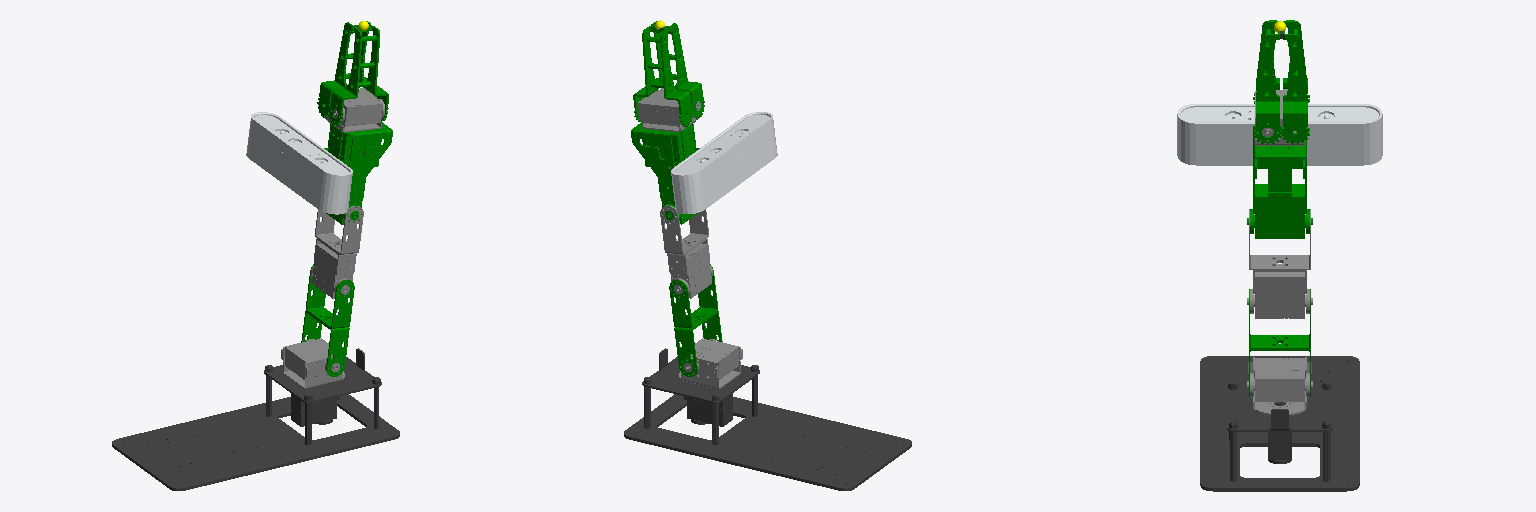
The robot description file, URDF, robot "arm5dof":
<?xml version="1.0" encoding="utf-8"?>
<!-- 五自由度机械臂 URDF模型  ROS版-->
<robot
  name="arm5dof">
  <link
    name="base_link">
    <inertial>
      <origin
        xyz="-0.05549 -1.2443E-05 0.014047"
        rpy="0 0 0" />
      <mass
        value="0.34831" />
      <inertia
        ixx="0.00037734"
        ixy="-1.9667E-07"
        ixz="-5.7059E-07"
        iyy="0.0011827"
        iyz="9.3336E-14"
        izz="0.0015361" />
    </inertial>
    <visual>
      <origin
        xyz="0 0 0"
        rpy="0 0 0" />
      <geometry>
        <mesh
          filename="package://arm5dof_description/meshes/base_link.STL" />
      </geometry>
      <material
        name="black">
        <color
          rgba="0.3 0.3 0.3 1" />
      </material>
    </visual>
    <collision>
      <origin
        xyz="0 0 0"
        rpy="0 0 0" />
      <geometry>
        <mesh
          filename="package://arm5dof_description/meshes/base_link.STL" />
      </geometry>
    </collision>
  </link>
  <link
    name="link1">
    <inertial>
      <origin
        xyz="-0.0098047 1.4097E-06 0.014583"
        rpy="0 0 0" />
      <mass
        value="0.047857" />
      <inertia
        ixx="9.9743E-06"
        ixy="1.2606E-09"
        ixz="5.9862E-07"
        iyy="8.9062E-06"
        iyz="2.193E-09"
        izz="1.4861E-05" />
    </inertial>
    <visual>
      <origin
        xyz="0 0 0"
        rpy="0 0 0" />
      <geometry>
        <mesh
          filename="package://arm5dof_description/meshes/link1.STL" />
      </geometry>
      <material
        name="green">
        <color
          rgba="0.6 0.6 0.6 1" />
      </material>
    </visual>
    <collision>
      <origin
        xyz="0 0 0"
        rpy="0 0 0" />
      <geometry>
        <mesh
          filename="package://arm5dof_description/meshes/link1.STL" />
      </geometry>
    </collision>
  </link>
  <joint
    name="joint1"
    type="revolute">
    <origin
      xyz="0 0 0.052"
      rpy="0 0 0" />
    <parent
      link="base_link" />
    <child
      link="link1" />
    <axis
      xyz="0 0 1" />
    <limit
      lower="-1.5708"
      upper="1.5708"
      effort="20"
      velocity="3.5" />
    <ros2_control>
      <hardware_interface>
        position_controllers/JointPositionController
      </hardware_interface>
    </ros2_control>
  </joint>
  <link
    name="link2">
    <inertial>
      <origin
        xyz="0.04 -5.5511E-17 6.7485E-17"
        rpy="0 0 0" />
      <mass
        value="0.020202" />
      <inertia
        ixx="9.9386E-06"
        ixy="1.7219E-08"
        ixz="-5.3147E-21"
        iyy="1.3724E-05"
        iyz="-1.594E-21"
        izz="5.1826E-06" />
    </inertial>
    <visual>
      <origin
        xyz="0 0 0"
        rpy="0 0 0" />
      <geometry>
        <mesh
          filename="package://arm5dof_description/meshes/link2.STL" />
      </geometry>
      <material
        name="green">
        <color
          rgba="0 0.6 0 1" />
      </material>
    </visual>
    <collision>
      <origin
        xyz="0 0 0"
        rpy="0 0 0" />
      <geometry>
        <mesh
          filename="package://arm5dof_description/meshes/link2.STL" />
      </geometry>
    </collision>
  </link>
  <joint
    name="joint2"
    type="revolute">
    <origin
      xyz="0 0 0.018"
      rpy="-1.5708 0 0" />
    <parent
      link="link1" />
    <child
      link="link2" />
    <axis
      xyz="0 0 1" />
    <limit
      lower="-2.650"
      upper="-0.2269"
      effort="20"
      velocity="3.5" />
    <ros2_control>
      <hardware_interface>
        position_controllers/JointPositionController
      </hardware_interface>
    </ros2_control>
  </joint>
  <link
    name="link3">
    <inertial>
      <origin
        xyz="0.019908 0 -6.1294E-06"
        rpy="0 0 0" />
      <mass
        value="0.050927" />
      <inertia
        ixx="1.2573E-05"
        ixy="8.6095E-09"
        ixz="-1.9789E-09"
        iyy="1.7838E-05"
        iyz="3.1614E-20"
        izz="8.6328E-06" />
    </inertial>
    <visual>
      <origin
        xyz="0 0 0"
        rpy="0 0 0" />
      <geometry>
        <mesh
          filename="package://arm5dof_description/meshes/link3.STL" />
      </geometry>
      <material
        name="gray">
        <color
          rgba="0.6 0.6 0.6 1" />
      </material>
    </visual>
    <collision>
      <origin
        xyz="0 0 0"
        rpy="0 0 0" />
      <geometry>
        <mesh
          filename="package://arm5dof_description/meshes/link3.STL" />
      </geometry>
    </collision>
  </link>
  <joint
    name="joint3"
    type="revolute">
    <origin
      xyz="0.08 0 0"
      rpy="0 0 0" />
    <parent
      link="link2" />
    <child
      link="link3" />
    <axis
      xyz="0 0 1" />
    <limit
      lower="-0.7854"
      upper="1.5708"
      effort="20"
      velocity="3.5" />
    <ros2_control>
      <hardware_interface>
        position_controllers/JointPositionController
      </hardware_interface>
    </ros2_control>
  </joint>
  <link
    name="link4">
    <inertial>
      <origin
        xyz="0.042216 0.0041806 -3.2915E-06"
        rpy="0 0 0" />
      <mass
        value="0.094835" />
      <inertia
        ixx="2.4341E-05"
        ixy="-2.5244E-06"
        ixz="-1.9789E-09"
        iyy="3.3312E-05"
        iyz="1.4436E-20"
        izz="3.0737E-05" />
    </inertial>
    <visual>
      <origin
        xyz="0 0 0"
        rpy="0 0 0" />
      <geometry>
        <mesh
          filename="package://arm5dof_description/meshes/link4.STL" />
      </geometry>
      <material
        name="green">
        <color
          rgba="0 0.6 0 1" />
      </material>
    </visual>
    <collision>
      <origin
        xyz="0 0 0"
        rpy="0 0 0" />
      <geometry>
        <mesh
          filename="package://arm5dof_description/meshes/link4.STL" />
      </geometry>
    </collision>
  </link>
  <joint
    name="joint4"
    type="revolute">
    <origin
      xyz="0.07615 0 0"
      rpy="0 0 0" />
    <parent
      link="link3" />
    <child
      link="link4" />
    <axis
      xyz="0 0 1" />
    <limit
      lower="-1.5708"
      upper="1.5708"
      effort="20"
      velocity="3.5" />
    <ros2_control>
      <hardware_interface>
        position_controllers/JointPositionController
      </hardware_interface>
    </ros2_control>
  </joint>
  <link
    name="link5">
    <inertial>
      <origin
        xyz="-8.2184E-06 -0.0011968 0.01386"
        rpy="0 0 0" />
      <mass
        value="0.049124" />
      <inertia
        ixx="8.2684E-06"
        ixy="2.2759E-09"
        ixz="5.1987E-11"
        iyy="1.1645E-05"
        iyz="5.9116E-07"
        izz="1.5458E-05" />
    </inertial>
    <visual>
      <origin
        xyz="0 0 0"
        rpy="0 0 0" />
      <geometry>
        <mesh
          filename="package://arm5dof_description/meshes/link5.STL" />
      </geometry>
      <material
        name="gray">
        <color
          rgba="0.6 0.6 0.6 1" />
      </material>
    </visual>
    <collision>
      <origin
        xyz="0 0 0"
        rpy="0 0 0" />
      <geometry>
        <mesh
          filename="package://arm5dof_description/meshes/link5.STL" />
      </geometry>
    </collision>
  </link>
  <joint
    name="joint5"
    type="revolute">
    <origin
      xyz="0.0854 0 0"
      rpy="-1.57079632679489 8.79419361882729E-05 -1.5707963267949" />
    <parent
      link="link4" />
    <child
      link="link5" />
    <axis
      xyz="0 0 1" />
    <limit
      lower="-1.5708"
      upper="1.5708"
      effort="20"
      velocity="3.5" />
    <ros2_control>
      <hardware_interface>
        position_controllers/JointPositionController
      </hardware_interface>
    </ros2_control>
  </joint>
  <link
    name="left_gripper_link">
    <inertial>
      <origin
        xyz="0.035118 0.00016366 5.5511E-17"
        rpy="0 0 0" />
      <mass
        value="0.024589" />
      <inertia
        ixx="1.611E-06"
        ixy="2.5381E-07"
        ixz="1.1103E-20"
        iyy="1.2951E-05"
        iyz="-2.2806E-22"
        izz="1.2364E-05" />
    </inertial>
    <visual>
      <origin
        xyz="0 0 0"
        rpy="0 0 0" />
      <geometry>
        <mesh
          filename="package://arm5dof_description/meshes/left_gripper_link.STL" />
      </geometry>
      <material
        name="green">
        <color
          rgba="0 0.6 0 1" />
      </material>
    </visual>
    <collision>
      <origin
        xyz="0 0 0"
        rpy="0 0 0" />
      <geometry>
        <mesh
          filename="package://arm5dof_description/meshes/left_gripper_link.STL" />
      </geometry>
    </collision>
  </link>
  <joint
    name="left_gripper_joint"
    type="revolute">
    <origin
      xyz="0 -0.0123499997975674 0.016"
      rpy="3.14159 -1.5708 0" />
    <parent
      link="link5" />
    <child
      link="left_gripper_link" />
    <axis
      xyz="0 0 1" />
    <limit
      lower="0"
      upper="1.5708"
      effort="20"
      velocity="3.5" />
    <ros2_control>
      <hardware_interface>
        position_controllers/JointPositionController
      </hardware_interface>
    </ros2_control>
  </joint>
  <link
    name="left_rubber_pad_link">
    <inertial>
      <origin
        xyz="-5.5511E-17 0.0005 0"
        rpy="0 0 0" />
      <mass
        value="8.5E-05" />
      <inertia
        ixx="2.0542E-09"
        ixy="-5.8301E-25"
        ixz="-4.0091E-24"
        iyy="2.2242E-09"
        iyz="2.0909E-27"
        izz="1.8417E-10" />
    </inertial>
    <visual>
      <origin
        xyz="0 0 0"
        rpy="0 0 0" />
      <geometry>
        <mesh
          filename="package://arm5dof_description/meshes/left_rubber_pad_link.STL" />
      </geometry>
      <material
        name="rubber">
        <color
          rgba="0.29804 0.29804 0.29804 1" />
      </material>
    </visual>
    <collision>
      <origin
        xyz="0 0 0"
        rpy="0 0 0" />
      <geometry>
        <mesh
          filename="package://arm5dof_description/meshes/left_rubber_pad_link.STL" />
      </geometry>
    </collision>
    <!--给夹爪垫片添加摩擦系数-->
    <contact>
      <friction_anchor />
      <stiffness value="30000.0" />
      <damping value="1000.0" />
      <spinning_friction value="0.1" />
      <lateral_friction value="1.0" />
    </contact>
  </link>
  <joint
    name="left_rubber_pad_joint"
    type="fixed">
    <origin
      xyz="0.0810000000000007 -0.0109999999999981 0"
      rpy="0 0 0" />
    <parent
      link="left_gripper_link" />
    <child
      link="left_rubber_pad_link" />
    <axis
      xyz="0 0 0" />
  </joint>
  <link
    name="right_gripper_link">
    <inertial>
      <origin
        xyz="0.036355 -0.00017366 -4.996E-16"
        rpy="0 0 0" />
      <mass
        value="0.023734" />
      <inertia
        ixx="1.5331E-06"
        ixy="-2.5364E-07"
        ixz="-1.9986E-21"
        iyy="1.2074E-05"
        iyz="7.3824E-23"
        izz="1.1549E-05" />
    </inertial>
    <visual>
      <origin
        xyz="0 0 0"
        rpy="0 0 0" />
      <geometry>
        <mesh
          filename="package://arm5dof_description/meshes/right_gripper_link.STL" />
      </geometry>
      <material
        name="green">
        <color
          rgba="0 0.6 0 1" />
      </material>
    </visual>
    <collision>
      <origin
        xyz="0 0 0"
        rpy="0 0 0" />
      <geometry>
        <mesh
          filename="package://arm5dof_description/meshes/right_gripper_link.STL" />
      </geometry>
    </collision>
  </link>
  <joint
    name="right_gripper_joint"
    type="revolute">
    <origin
      xyz="0 0.00965 0.016"
      rpy="3.14159 -1.5708 0" />
    <parent
      link="link5" />
    <child
      link="right_gripper_link" />
    <axis
      xyz="0 0 1" />
    <limit
      lower="-1.5708"
      upper="0"
      effort="20"
      velocity="3.5" />
    <mimic
      joint="left_gripper_joint"
      multiplier="-1"
      offset="0" />
  </joint>
  <link
    name="right_rubber_pad_link">
    <inertial>
      <origin
        xyz="3.3307E-16 -0.0005 -2.6507E-15"
        rpy="0 0 0" />
      <mass
        value="8.5E-05" />
      <inertia
        ixx="2.0542E-09"
        ixy="-8.9622E-25"
        ixz="1.5346E-24"
        iyy="2.2242E-09"
        iyz="3.0737E-27"
        izz="1.8417E-10" />
    </inertial>
    <visual>
      <origin
        xyz="0 0 0"
        rpy="0 0 0" />
      <geometry>
        <mesh
          filename="package://arm5dof_description/meshes/right_rubber_pad_link.STL" />
      </geometry>
      <material
        name="rubber">
        <color
          rgba="0.29804 0.29804 0.29804 1" />
      </material>
    </visual>
    <collision>
      <origin
        xyz="0 0 0"
        rpy="0 0 0" />
      <geometry>
        <mesh
          filename="package://arm5dof_description/meshes/right_rubber_pad_link.STL" />
      </geometry>
    </collision>
    <!--给夹爪垫片添加摩擦系数-->
    <contact>
      <friction_anchor />
      <stiffness value="30000.0" />
      <damping value="1000.0" />
      <spinning_friction value="0.1" />
      <lateral_friction value="1.0" />
    </contact>
  </link>
  <joint
    name="right_rubber_pad_joint"
    type="fixed">
    <origin
      xyz="0.081 0.011 0"
      rpy="0 0 0" />
    <parent
      link="right_gripper_link" />
    <child
      link="right_rubber_pad_link" />
    <axis
      xyz="0 0 0" />
  </joint>
  <link
    name="camera">
    <inertial>
      <origin
        xyz="0.012507582644275 0.000732174960914142 -0.0180019906281733"
        rpy="0 0 0" />
      <mass
        value="0.182214459073633" />
      <inertia
        ixx="3.36907557025265E-05"
        ixy="5.37491052812001E-09"
        ixz="-2.59991125882536E-08"
        iyy="0.000396547856460873"
        iyz="-6.17675676299939E-08"
        izz="0.000390144942272885" />
    </inertial>
    <visual>
      <origin
        xyz="0 0 0"
        rpy="0 0 0" />
      <geometry>
        <mesh
          filename="package://arm5dof_description/meshes/camera.STL" />
      </geometry>
      <material
        name="">
        <color
          rgba="0.898039215686275 0.917647058823529 0.929411764705882 1" />
      </material>
    </visual>
    <collision>
      <origin
        xyz="0 0 0"
        rpy="0 0 0" />
      <geometry>
        <mesh
          filename="package://arm5dof_description/meshes/camera.STL" />
      </geometry>
    </collision>
  </link>
  <joint
    name="camera_link"
    type="fixed">
    <origin
      xyz="0.06715 -0.0530000000000002 0.0125000000000016"
      rpy="0 1.5707963267949 0" />
    <parent
      link="link4" />
    <child
      link="camera" />
    <axis
      xyz="0 0 0" />
  </joint>

  <!--工具中心坐标系-->
  <link name="tool_center_frame">
    <visual>
      <origin
        xyz="0 0 0"
        rpy="0 0 0" />
      <geometry>
        <sphere radius="0.005" />
      </geometry>
      <material
        name="plastic">
        <color
          rgba="1.0 1.0 0.0 1" />
      </material>
    </visual>
  </link>
  <joint name="tool_center_joint" type="fixed">
    <parent link="link5" />
    <child link="tool_center_frame" />
    <origin rpy="0.0 0.0 0.0" xyz="0.0 0.0 0.1" />
  </joint>

  <!--添加世界坐标系到机械臂基坐标系的空间变换-->
  <link name="world" />
  <joint name="world_joint" type="fixed">
    <parent link="world" />
    <child link="base_link" />
    <origin rpy="0.0 0.0 0.0" xyz="0.0 0.0 0.0" />
  </joint>

</robot>

--- Facts derived from the render (not from the file) ---
Views: 3 orthographic renders of the robot side by side, from view 1: azimuth 30°, elevation 25°; view 2: azimuth 150°, elevation 25°; view 3: azimuth 270°, elevation 25°.
Model arm5dof with 13 links and 12 joints (7 revolute, 5 fixed), rooted at world, posed all joints at 0 but 1 set to mid-range because 0 is outside their limits (joint2 = -1.44).
Visible links, largest first — view 1: base_link, camera, link3, link4, link2, link1, right_gripper_link, link5, left_gripper_link; view 2: base_link, camera, link3, link4, link2, link1, left_gripper_link, link5, right_gripper_link; view 3: base_link, camera, link4, link3, link1, left_gripper_link, right_gripper_link, link2.
Link boxes in pixels (x1,y1,x2,y2): base_link: [112, 348, 399, 490]; camera: [246, 112, 352, 214]; link3: [311, 206, 363, 298]; link4: [324, 121, 392, 224]; link2: [301, 264, 354, 376]; link1: [281, 338, 344, 388]; right_gripper_link: [329, 25, 388, 125]; link5: [322, 88, 384, 132]; left_gripper_link: [317, 21, 375, 117]; base_link: [624, 348, 911, 490]; camera: [671, 112, 777, 213]; link3: [660, 205, 712, 298]; link4: [631, 121, 699, 224]; link2: [669, 264, 722, 376]; link1: [679, 338, 742, 388]; left_gripper_link: [633, 26, 693, 126]; link5: [637, 88, 701, 131]; right_gripper_link: [645, 21, 704, 118]; base_link: [1200, 356, 1359, 491]; camera: [1177, 104, 1382, 165]; link4: [1247, 125, 1312, 238]; link3: [1247, 209, 1312, 318]; link1: [1247, 357, 1312, 414]; left_gripper_link: [1281, 20, 1309, 144]; right_gripper_link: [1253, 20, 1282, 144]; link2: [1249, 289, 1310, 396].
Size in the robot's own frame: 0.2648 by 0.165 by 0.4136 metres.
Meshes: 11 distinct files referenced, 11 mesh visuals loaded (11 binary STL).
